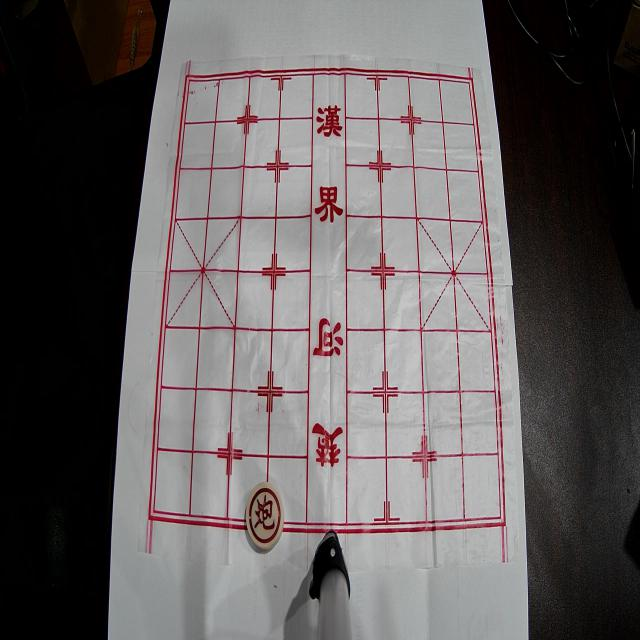red-cannon: (246, 482, 284, 550)
